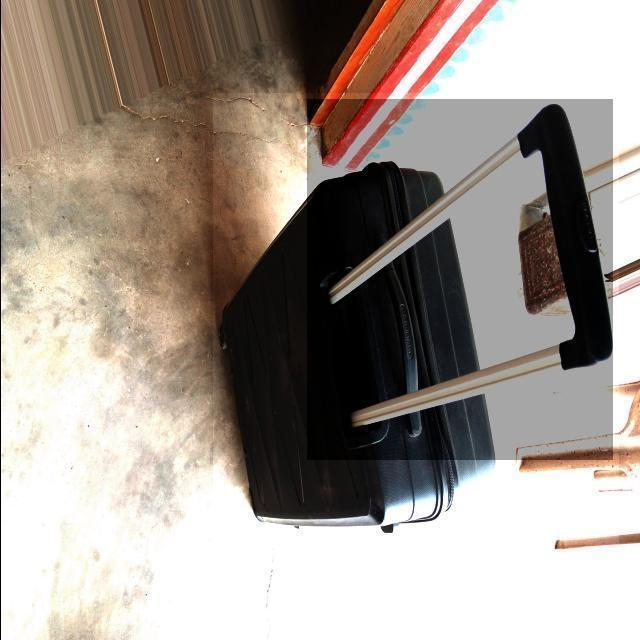Suitcase: (214, 98, 612, 538)
